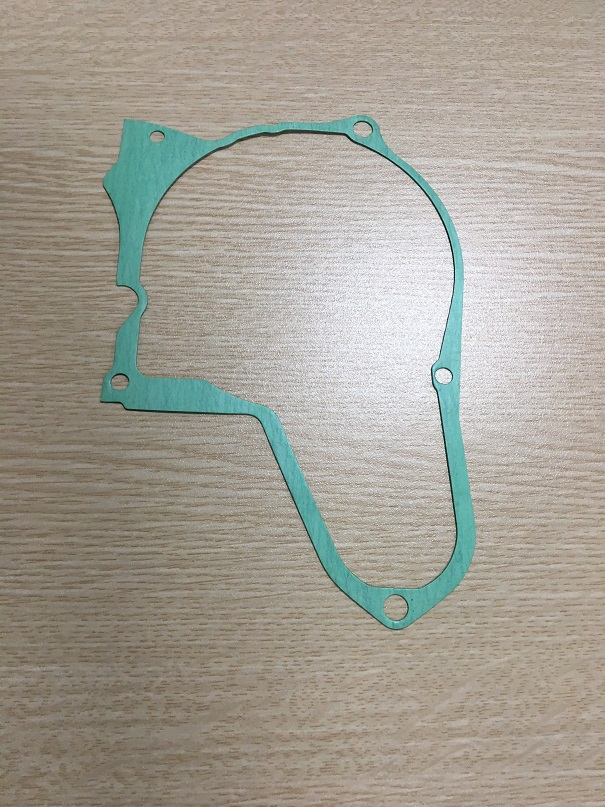type1: (85, 101, 498, 637)
